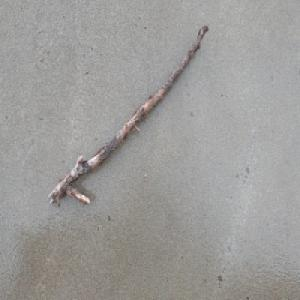Wood: (46, 22, 210, 205)
